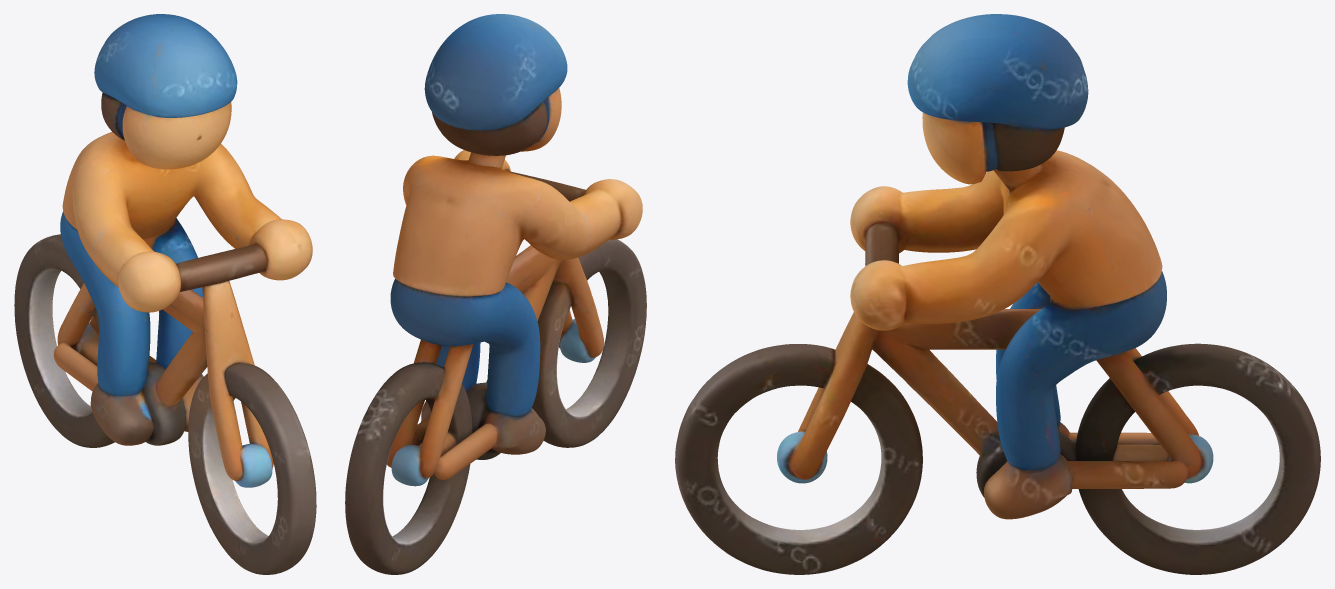
File: bike_shaded.opt.glb
3 views of the same model, side by side, from view 1: azimuth 30°, elevation 25°; view 2: azimuth 150°, elevation 25°; view 3: azimuth 270°, elevation 25° (orthographic). The views are drawn at different scales.
Parts seen in each view (by area): view 1: model; view 2: model; view 3: model.
Part boxes in pixels (x1=…): model: x1=14, y1=14, x2=316, y2=574; model: x1=345, y1=14, x2=646, y2=574; model: x1=675, y1=14, x2=1320, y2=574.
Bounding box in the file's own units: 0.6847 × 1.7 × 1.81.
1 material, 1 textured.
